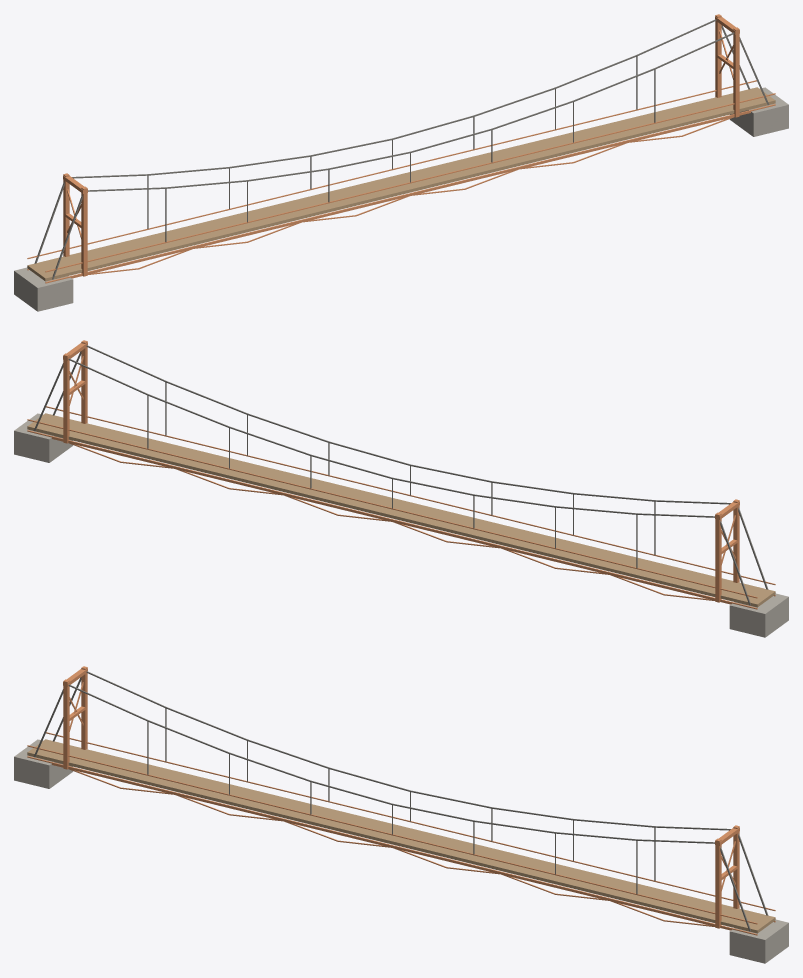
File: ponte_pensil_mapa.glb
The picture shows the model from 3 angles, top to bottom: view 1: azimuth 30°, elevation 25°; view 2: azimuth 150°, elevation 25°; view 3: azimuth 330°, elevation 25°; orthographic projection.
Visible parts, largest first — view 1: ponte_wood, ponte_orange, ponte_dark, ponte_concrete; view 2: ponte_wood, ponte_orange, ponte_dark, ponte_concrete; view 3: ponte_wood, ponte_orange, ponte_dark, ponte_concrete.
Boxes of the visible parts, x1,y1,x2,y2 form: ponte_wood: (27, 87, 775, 281); ponte_orange: (27, 14, 775, 283); ponte_dark: (34, 19, 769, 279); ponte_concrete: (14, 87, 788, 311); ponte_wood: (27, 413, 775, 607); ponte_orange: (27, 340, 775, 609); ponte_dark: (33, 345, 768, 605); ponte_concrete: (14, 413, 788, 637); ponte_wood: (27, 739, 775, 933); ponte_orange: (27, 666, 775, 935); ponte_dark: (33, 671, 768, 931); ponte_concrete: (14, 739, 788, 963).
Bounding box in the file's own units: 106 × 14.8 × 5.8.
